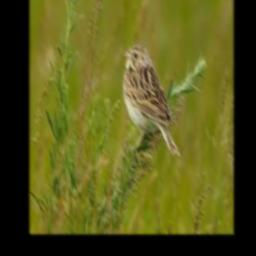Sparrow: (123, 44, 181, 158)
